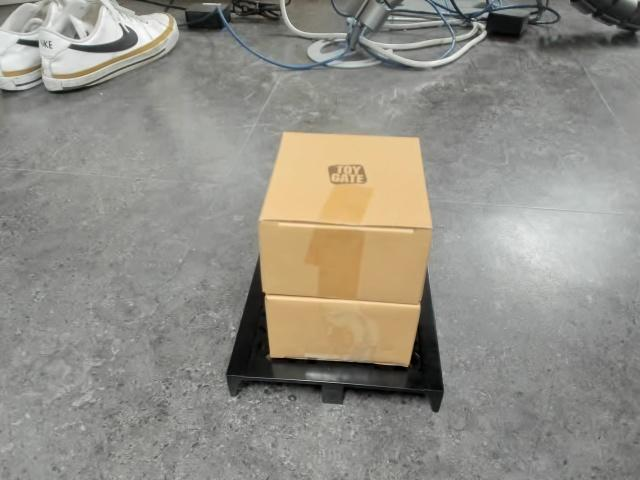box: (226, 131, 446, 414)
